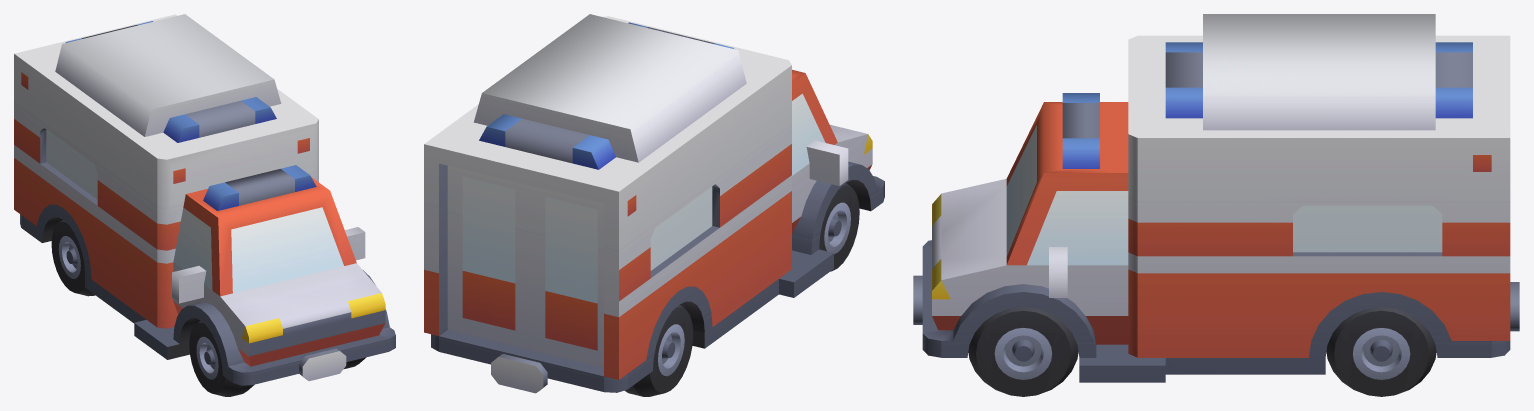
The model's file is ambulance-transformed.glb.
3 views of the same model, side by side, from view 1: azimuth 30°, elevation 25°; view 2: azimuth 150°, elevation 25°; view 3: azimuth 270°, elevation 25° (orthographic). The views are drawn at different scales.
Parts seen in each view (by area): view 1: body; view 2: body; view 3: body.
Part boxes in pixels (left/top/right/bottom): body: left=14, top=14, right=395, bottom=396; body: left=424, top=14, right=884, bottom=396; body: left=913, top=14, right=1519, bottom=396.
Size of the model in its own units: 1.5 by 1.8 by 3.25.
Materials: 1 (1 with a texture image).
